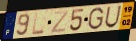5: (69, 8, 85, 32)
9: (15, 14, 30, 37)
G: (87, 7, 105, 31)
L: (31, 12, 45, 36)
U: (104, 5, 123, 29)
Z: (50, 10, 70, 34)
